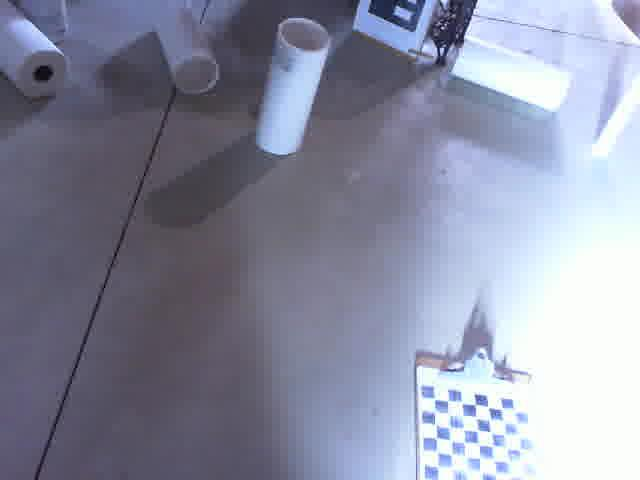coral: (253, 6, 335, 170), (445, 30, 580, 115), (139, 0, 235, 98)
